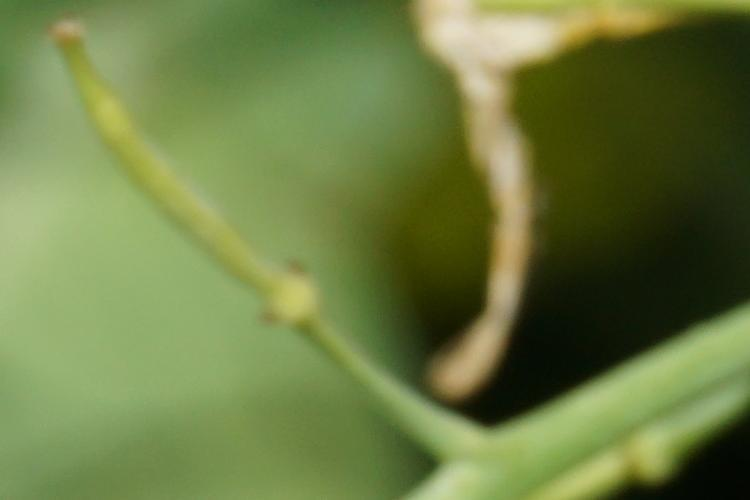pod: (42, 7, 339, 350)
